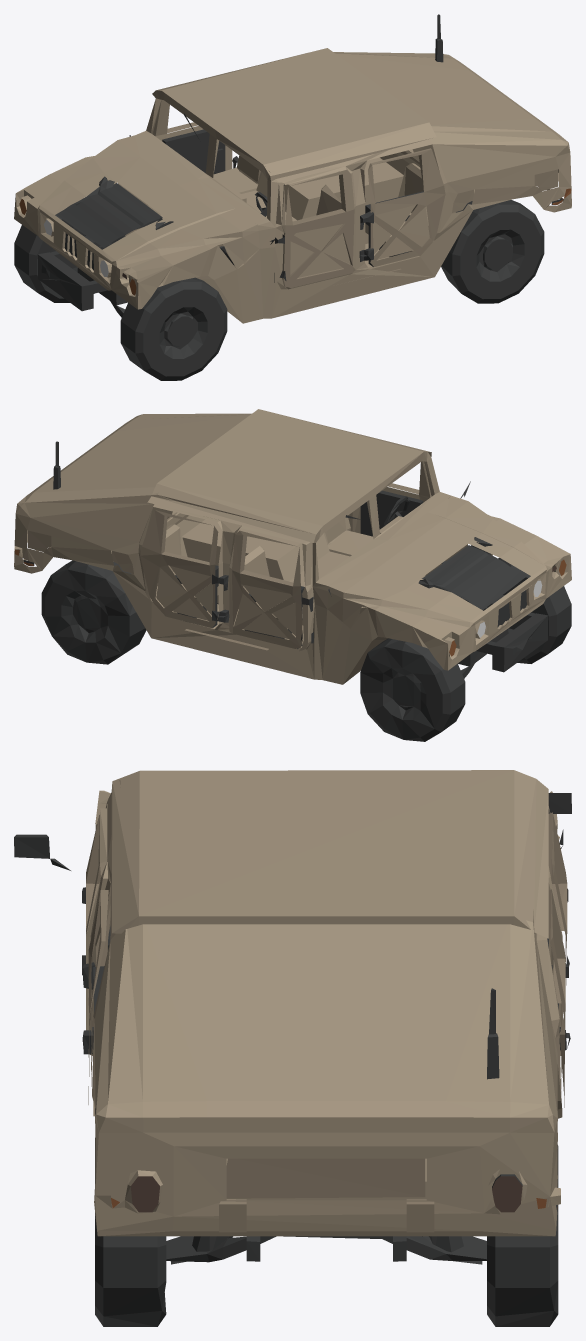
File: humvee_C.glb
The picture shows the model from 3 angles, top to bottom: view 1: azimuth 30°, elevation 25°; view 2: azimuth 150°, elevation 25°; view 3: azimuth 270°, elevation 25°; orthographic projection. The views are drawn at different scales.
Parts seen in each view (by area): view 1: world; view 2: world; view 3: world.
Boxes of the visible parts, bbox=[...] form: world: bbox=[14, 14, 571, 380]; world: bbox=[14, 409, 571, 741]; world: bbox=[14, 770, 571, 1326].
Bounding box in the file's own units: 4.67 × 1.95 × 2.67.
Materials: 1 (1 with a texture image).
